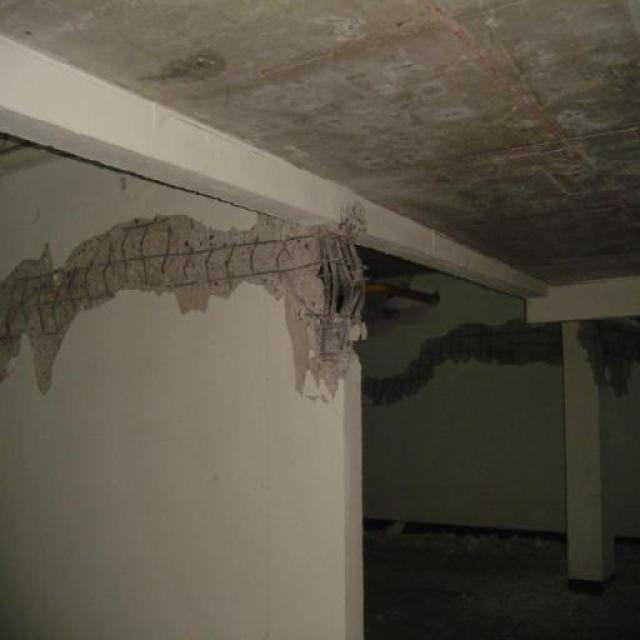D0w0: (0, 215, 365, 391), (364, 319, 560, 405), (580, 320, 639, 396), (339, 201, 368, 235)
